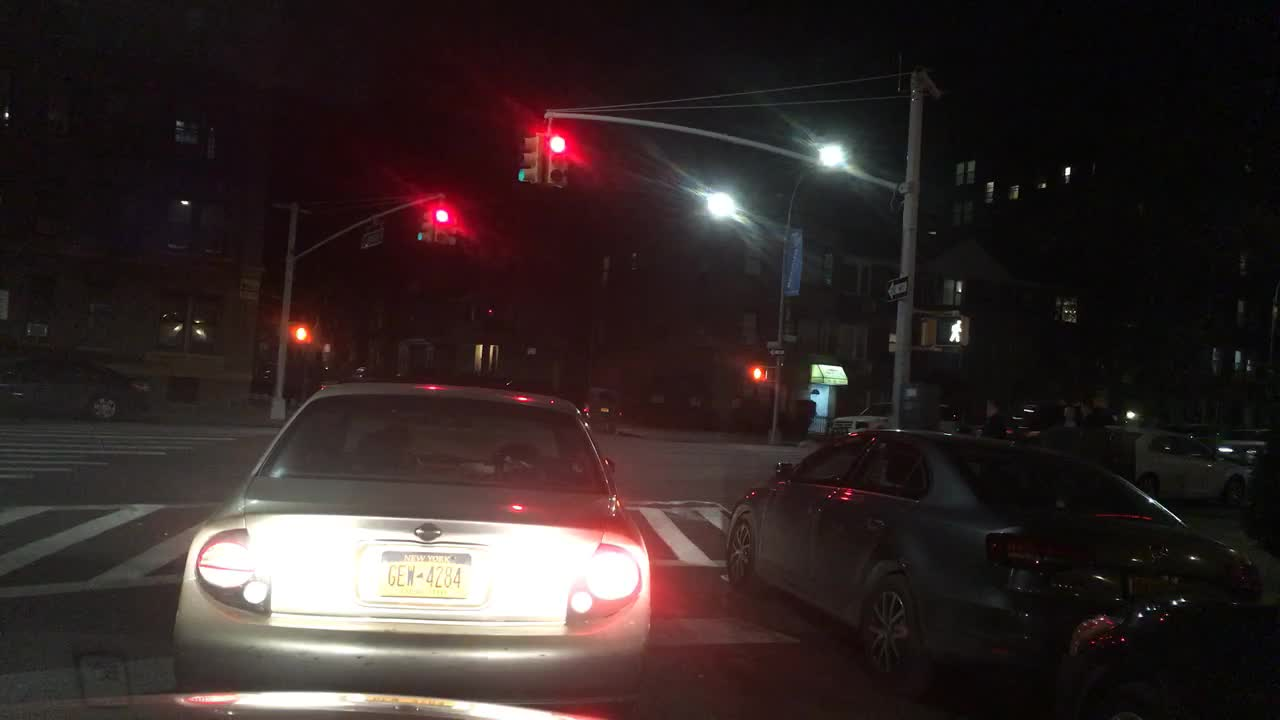car: (170, 384, 651, 704), (722, 436, 1251, 701), (1057, 581, 1279, 718), (0, 346, 154, 424), (1139, 435, 1251, 507), (828, 394, 960, 426), (980, 400, 1099, 435), (577, 387, 623, 432), (255, 363, 293, 399), (318, 363, 374, 383)
traffic light: (549, 127, 568, 190), (518, 131, 539, 185), (939, 315, 971, 345), (434, 203, 451, 248), (918, 315, 937, 350), (420, 202, 433, 245), (290, 324, 309, 345), (749, 364, 768, 381), (481, 301, 495, 319)
traffic sign: (880, 274, 912, 300), (359, 222, 389, 248), (764, 337, 785, 346), (782, 333, 797, 345), (768, 347, 787, 356)
